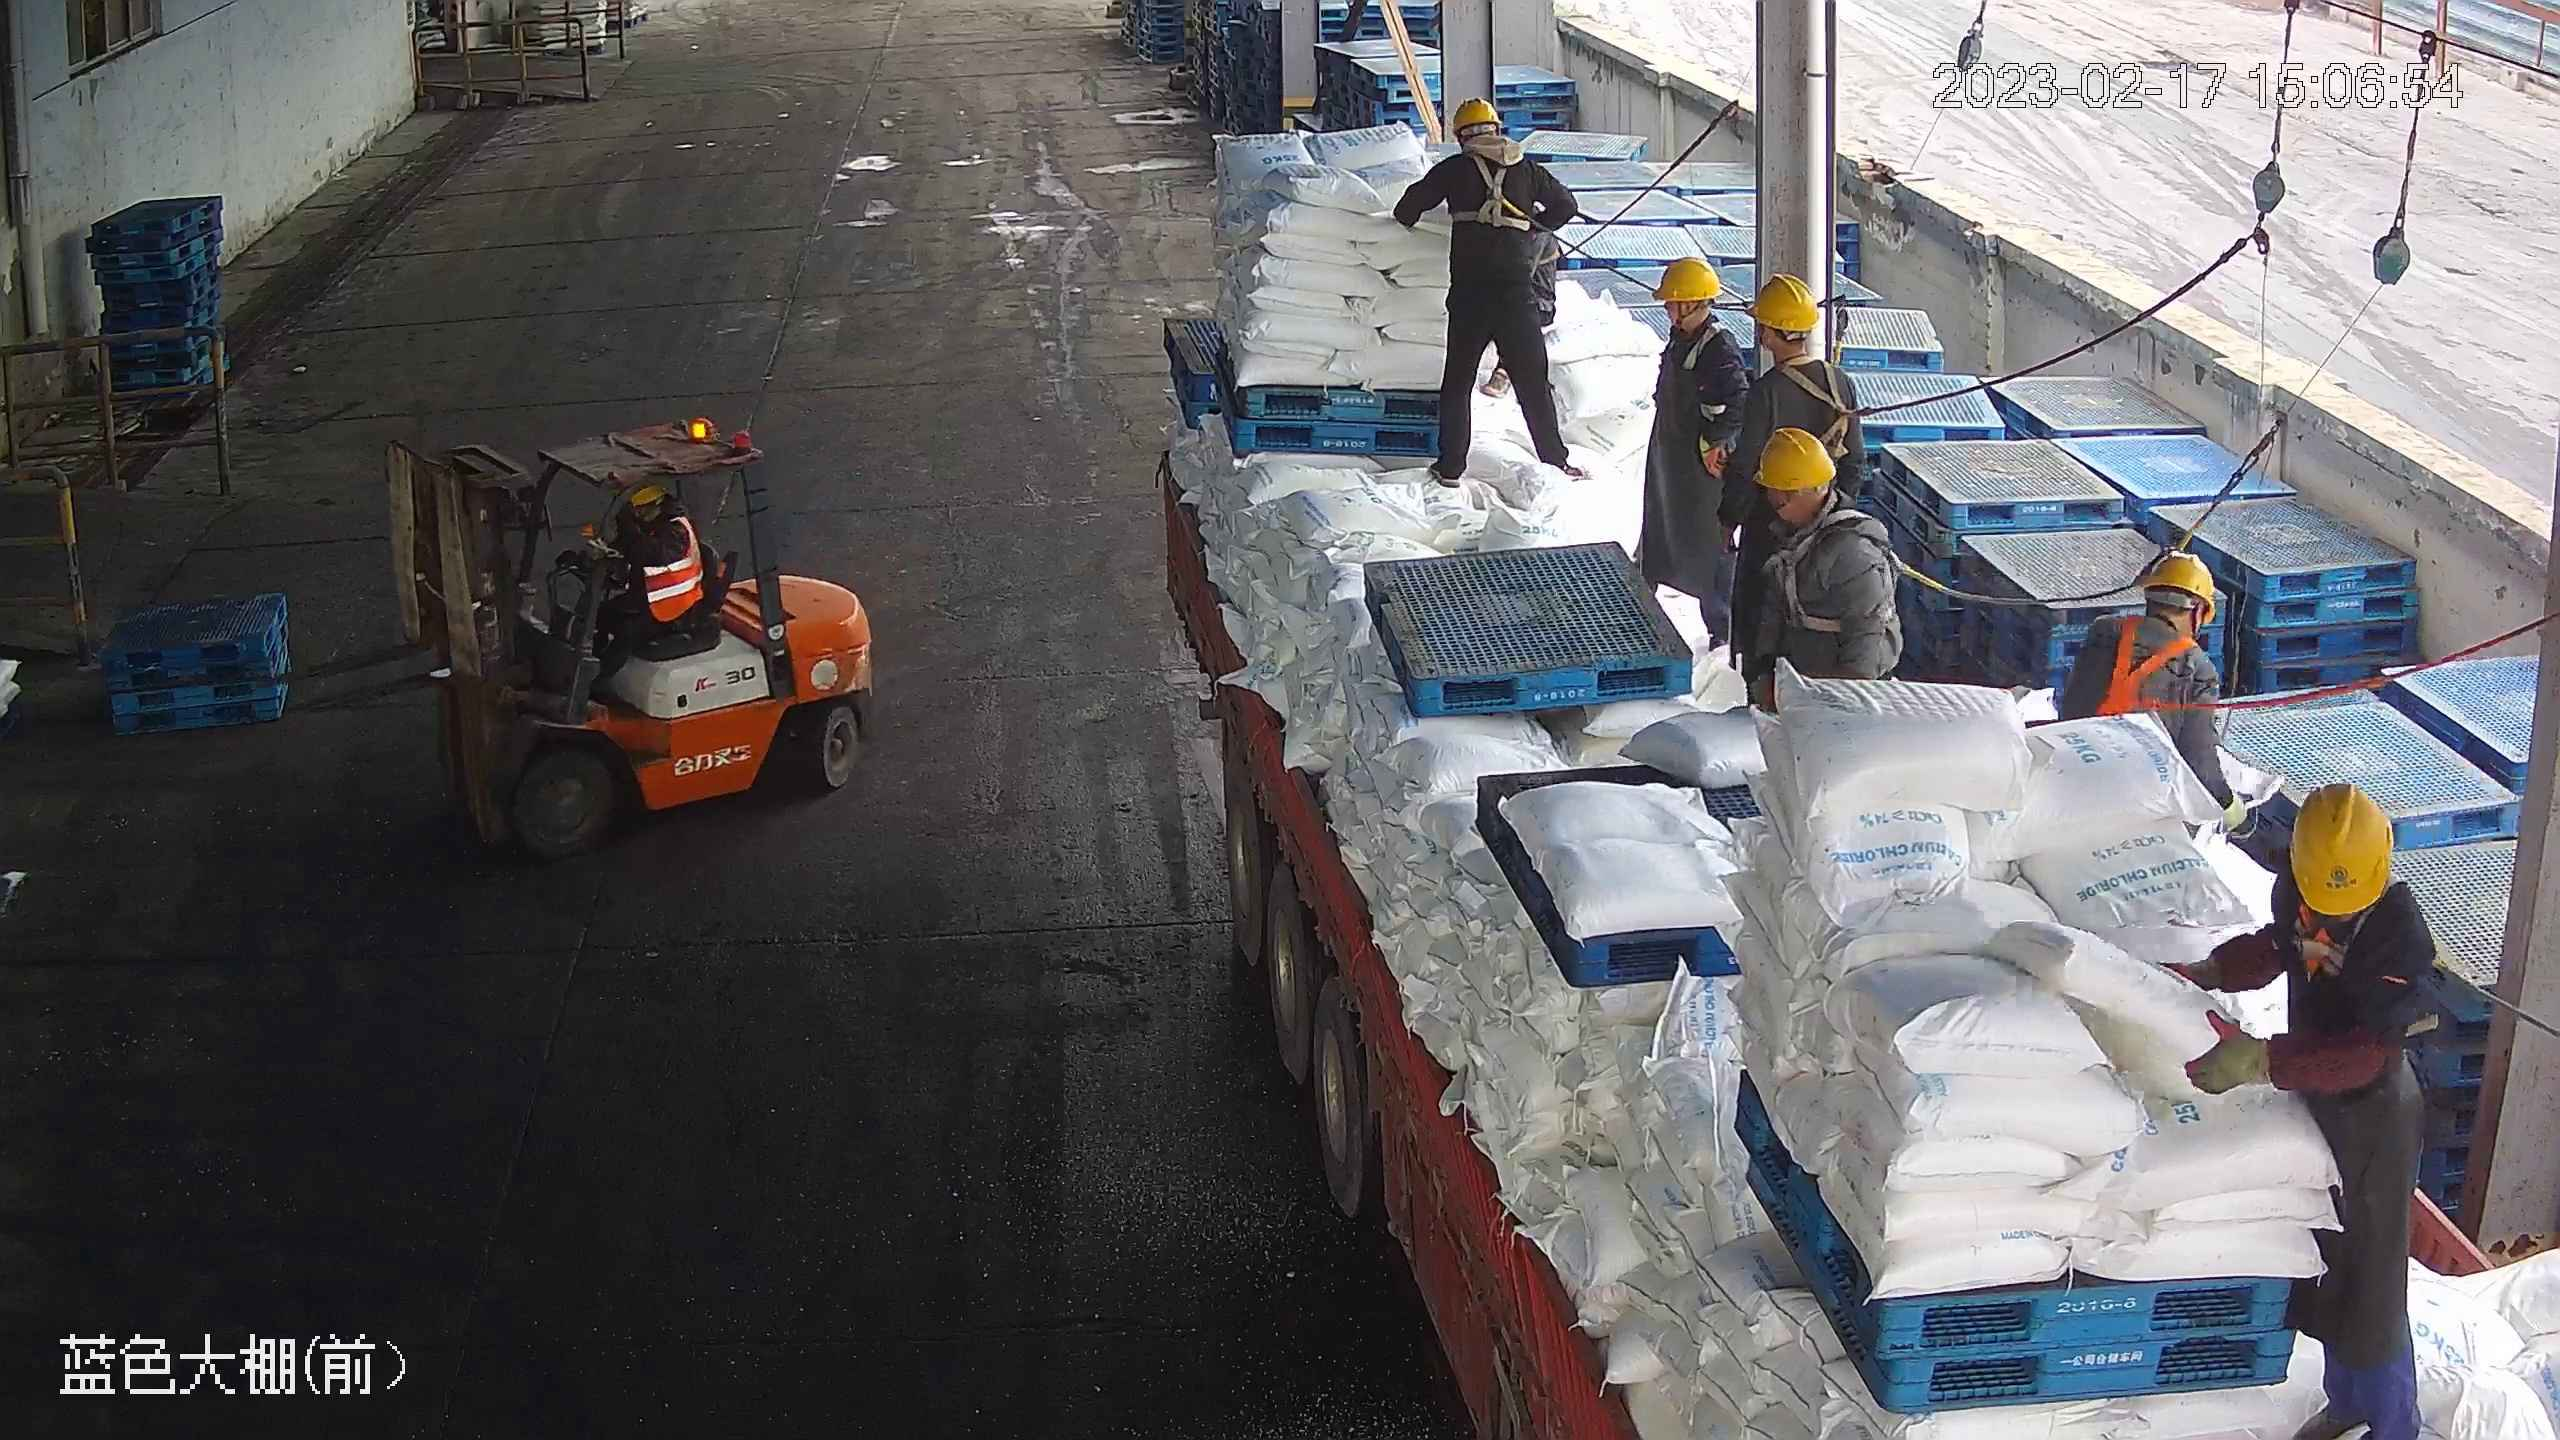belt: (1756, 530, 1951, 630), (2273, 901, 2464, 1003), (2090, 613, 2222, 728), (1776, 357, 1878, 462), (1451, 149, 1544, 237), (1667, 323, 1740, 369)
head: (2225, 784, 2435, 1006), (1752, 428, 1896, 600), (2074, 550, 2223, 711), (1420, 100, 1561, 225), (1747, 276, 1859, 417), (1642, 259, 1745, 389)
helmet: (2288, 778, 2395, 917), (1754, 425, 1839, 491), (2132, 554, 2222, 611), (1747, 272, 1820, 333), (1651, 259, 1727, 301), (1454, 96, 1498, 135)
people: (2174, 781, 2439, 1440), (1395, 100, 1583, 486), (1717, 272, 1869, 669), (1623, 257, 1745, 642), (566, 486, 712, 691)
truck: (1145, 417, 2560, 1440)
